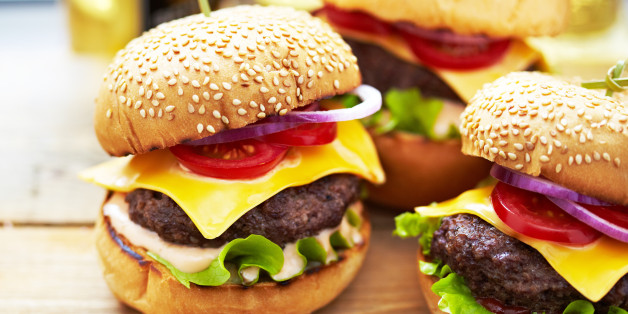hamburger_buns: (97, 14, 336, 314), (457, 62, 628, 221)
